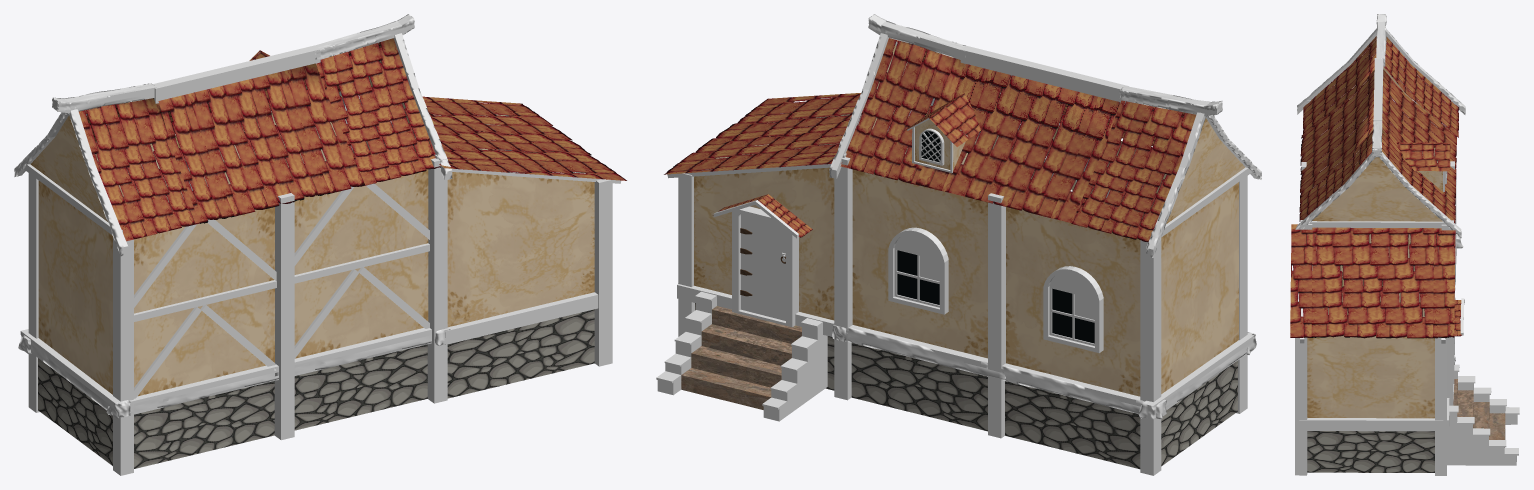
The model's file is house_8.fbx.
3 renders of one model, left to right at view 1: azimuth 30°, elevation 25°; view 2: azimuth 150°, elevation 25°; view 3: azimuth 270°, elevation 25°, orthographic. The views are drawn at different scales.
Parts seen in each view (by area): view 1: Plane.160, Plane.156, Plane.1654, Plane.149, Cube.164, Plane.164, Cube.165, Plane.163, Plane.159, Plane.155, Cube.160, Cube.159 (+4 smaller); view 2: Plane.150, Plane.157, Plane.160, Plane.1654, Cube.164, Plane.164, Cube.166, Cube.165, Plane.152, Plane.158, Plane.382, Cube.157 (+7 smaller); view 3: Plane.160, Cube.165, Plane.1654, Cube.164, Plane.162, Cube.166, Cube.167, Cube.163, Cube.162, Plane.382, Plane.164, Plane.148 (+1 smaller).
Part boxes in pixels (left/top/right/bottom): Plane.160: left=422, top=96, right=626, bottom=344; Plane.156: left=106, top=207, right=278, bottom=418; Plane.1654: left=153, top=45, right=364, bottom=223; Plane.149: left=274, top=169, right=431, bottom=380; Cube.164: left=14, top=83, right=199, bottom=256; Plane.164: left=20, top=181, right=130, bottom=418; Cube.165: left=271, top=14, right=452, bottom=186; Plane.163: left=447, top=309, right=594, bottom=398; Plane.159: left=134, top=381, right=274, bottom=468; Plane.155: left=294, top=344, right=427, bottom=430; Cube.160: left=274, top=193, right=294, bottom=440; Cube.159: left=427, top=158, right=447, bottom=403; Plane.150: left=832, top=169, right=1007, bottom=379; Plane.157: left=987, top=207, right=1166, bottom=419; Plane.160: left=664, top=93, right=860, bottom=336; Plane.1654: left=915, top=45, right=1155, bottom=222; Cube.164: left=1071, top=86, right=1261, bottom=257; Plane.164: left=1139, top=182, right=1256, bottom=419; Cube.166: left=656, top=291, right=827, bottom=421; Cube.165: left=829, top=14, right=999, bottom=185; Plane.152: left=851, top=343, right=987, bottom=431; Plane.158: left=1005, top=381, right=1140, bottom=469; Plane.382: left=732, top=206, right=798, bottom=327; Cube.157: left=1140, top=238, right=1161, bottom=475; Plane.160: left=1290, top=224, right=1455, bottom=431; Cube.165: left=1295, top=119, right=1461, bottom=238; Plane.1654: left=1300, top=58, right=1456, bottom=198; Cube.164: left=1297, top=14, right=1465, bottom=137; Plane.162: left=1307, top=431, right=1434, bottom=472; Cube.166: left=1447, top=364, right=1519, bottom=465; Cube.167: left=1382, top=142, right=1450, bottom=192; Cube.163: left=1295, top=337, right=1307, bottom=475; Cube.162: left=1435, top=337, right=1446, bottom=475; Plane.382: left=1447, top=337, right=1454, bottom=405; Plane.164: left=1320, top=104, right=1463, bottom=248; Plane.148: left=1314, top=233, right=1455, bottom=364.
Bounding box in the file's own units: 230 × 148 × 114.
Materials: 8 (5 with a texture image).
